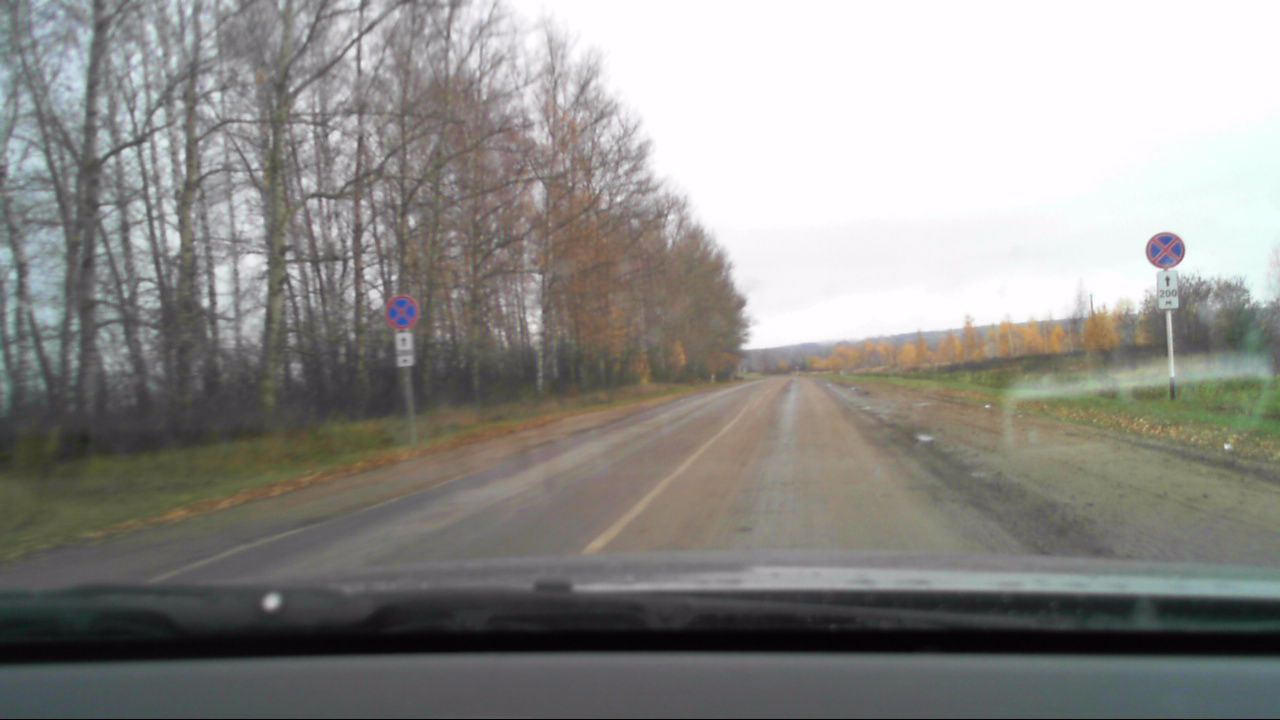No Parking: (1145, 231, 1187, 269)
